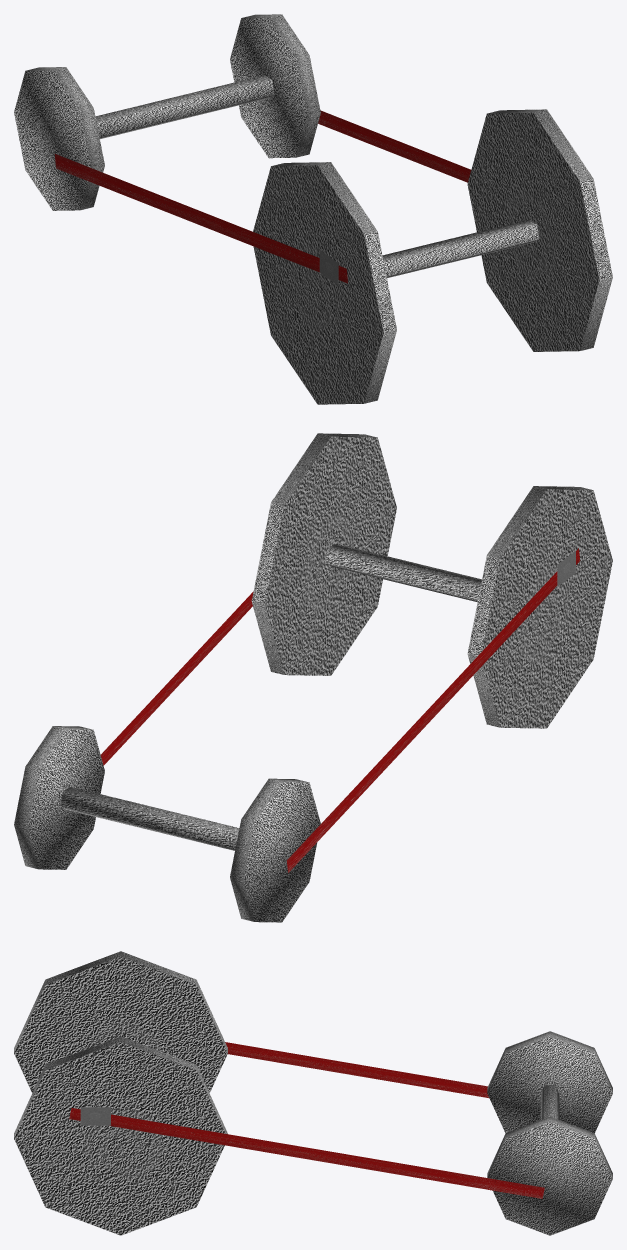
Rendered from wheels.obj.
3 renders of one model, top to bottom at view 1: azimuth 30°, elevation 25°; view 2: azimuth 150°, elevation 25°; view 3: azimuth 270°, elevation 25°, orthographic. The views are drawn at different scales.
Parts seen in each view (by area): view 1: Wheels_back, wheels_front, Tiradores; view 2: Wheels_back, wheels_front, Tiradores; view 3: Wheels_back, wheels_front, Tiradores.
Part boxes in pixels (box(x1,y1,x2,y2)): Wheels_back: box(253, 109, 612, 404); wheels_front: box(14, 14, 320, 210); Tiradores: box(54, 110, 471, 283); Wheels_back: box(251, 433, 612, 728); wheels_front: box(14, 726, 320, 922); Tiradores: box(100, 548, 580, 872); Wheels_back: box(14, 951, 227, 1235); wheels_front: box(487, 1031, 612, 1235); Tiradores: box(69, 1042, 544, 1198).
Bounding box in the file's own units: 17.53 × 16.89 × 47.26.
Materials: 3 (3 with a texture image).
